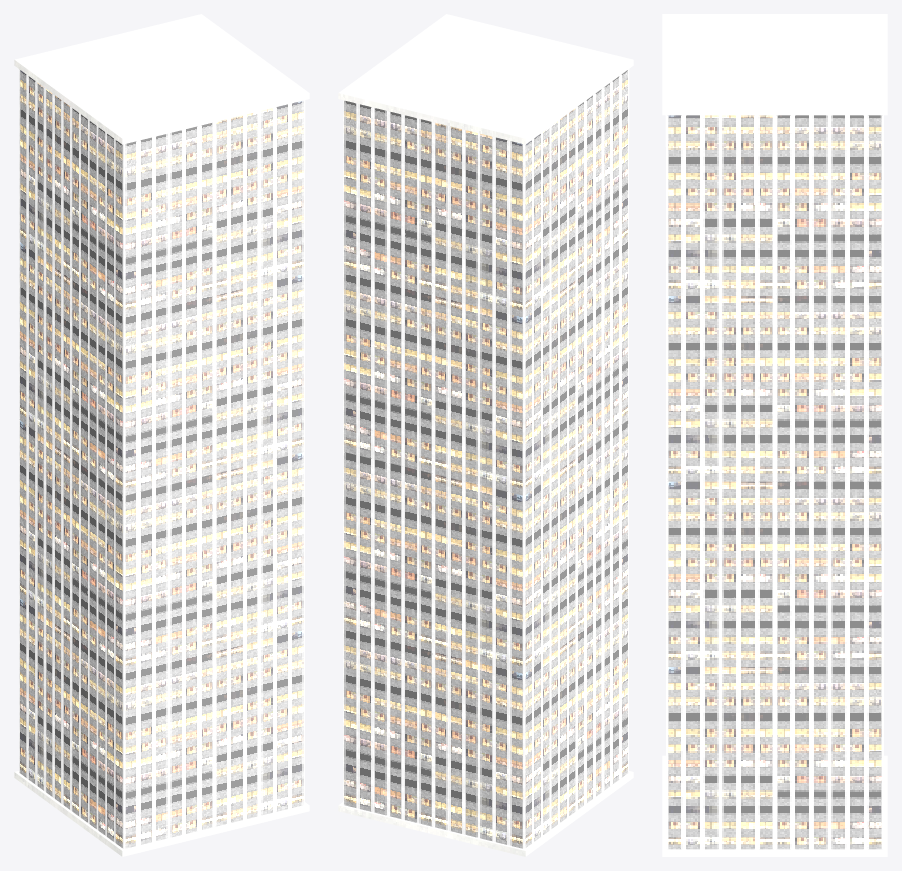
The model's file is buildingA.glb.
3 renders of one model, left to right at view 1: azimuth 30°, elevation 25°; view 2: azimuth 150°, elevation 25°; view 3: azimuth 270°, elevation 25°, orthographic. The views are drawn at different scales.
Visible parts, largest first — view 1: buildingA; view 2: buildingA; view 3: buildingA.
Boxes of the visible parts, left/top/right/bottom form: buildingA: left=14, top=14, right=309, bottom=856; buildingA: left=338, top=14, right=633, bottom=856; buildingA: left=662, top=14, right=887, bottom=856.
Size of the model in its own units: 33 by 121 by 33.
